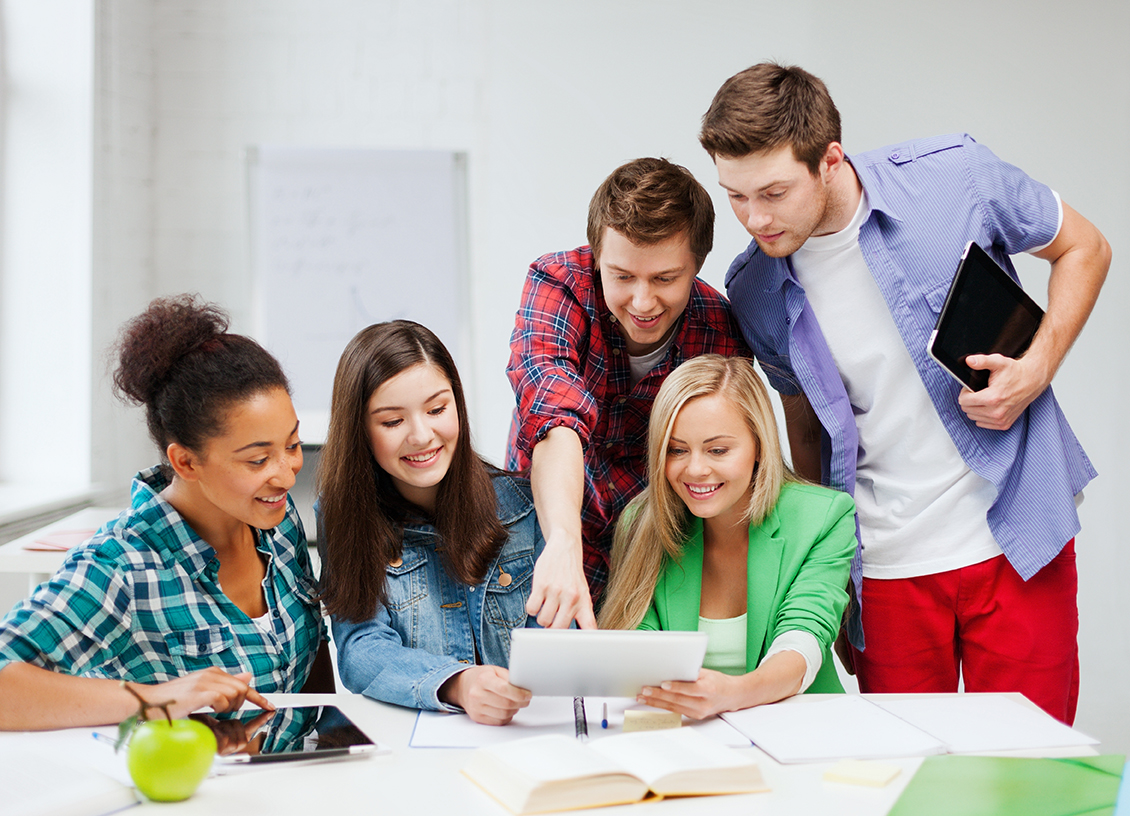Person: (725, 73, 1060, 682), (1, 316, 308, 716), (321, 321, 529, 721), (651, 365, 838, 704)
